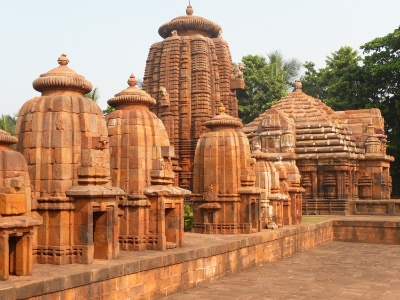amalaka: (22, 60, 99, 97), (156, 14, 234, 42), (105, 81, 159, 112), (199, 115, 248, 138)
gopuram: (140, 32, 243, 153), (4, 92, 116, 200)
